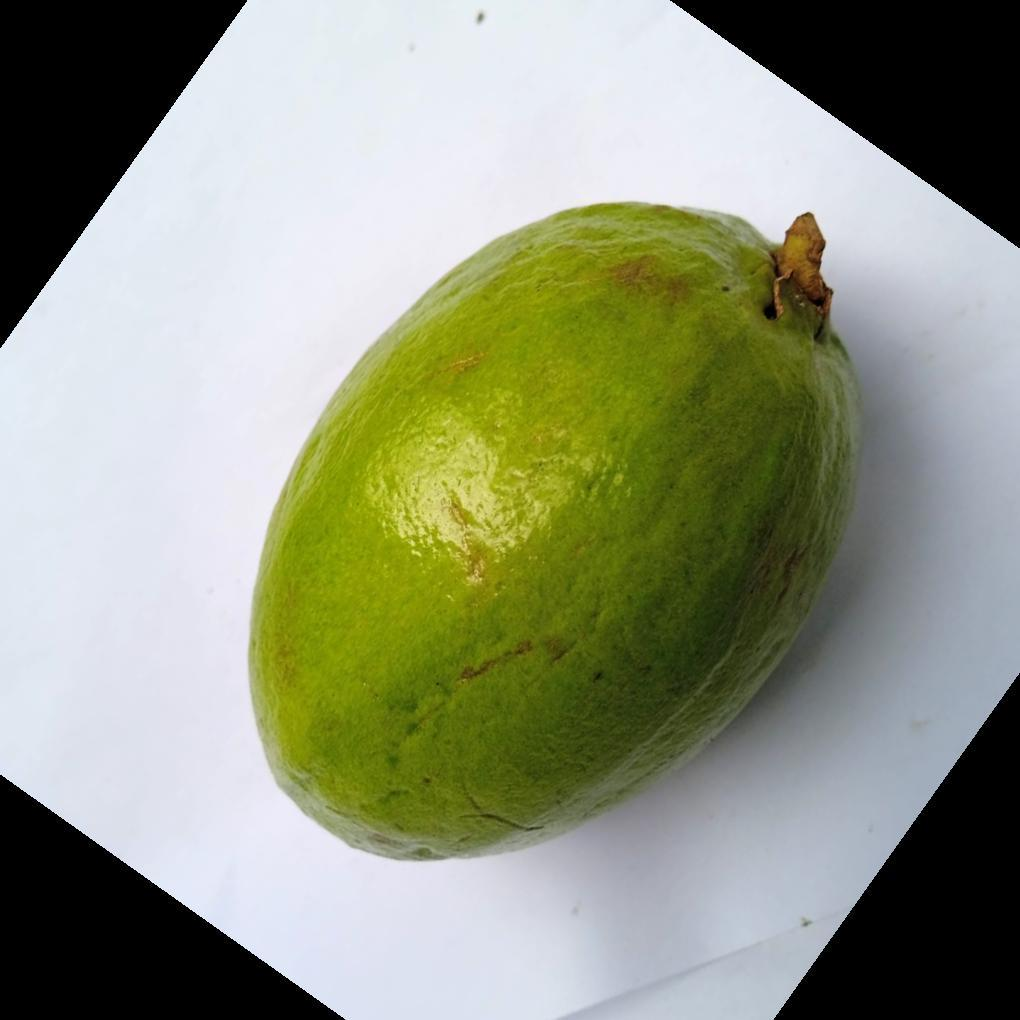FreshGuava: (244, 202, 863, 868)
